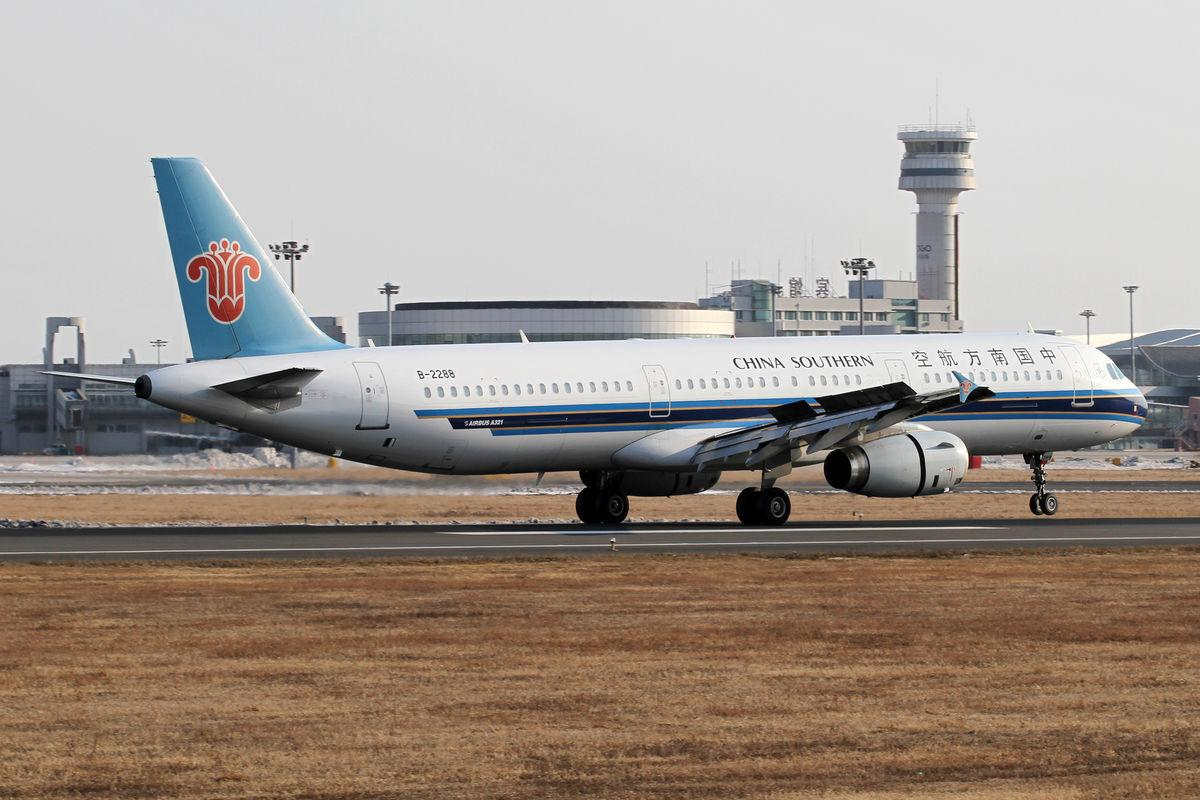airplane: (38, 156, 1192, 523)
